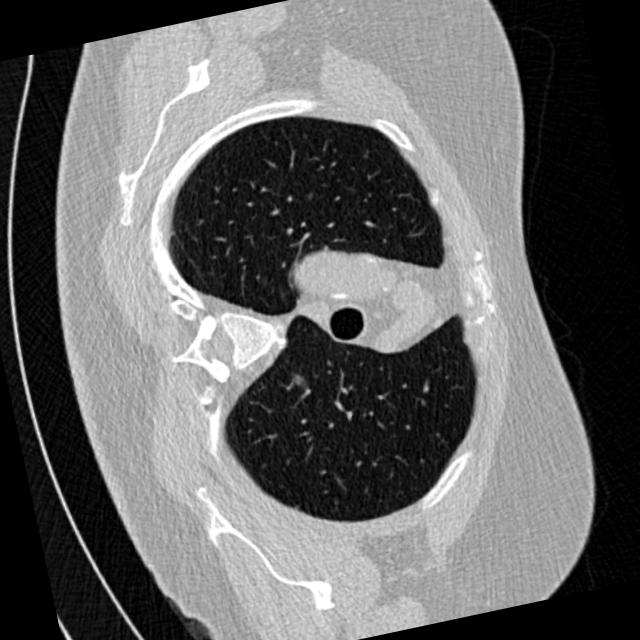nodule: (284, 364, 314, 394)
